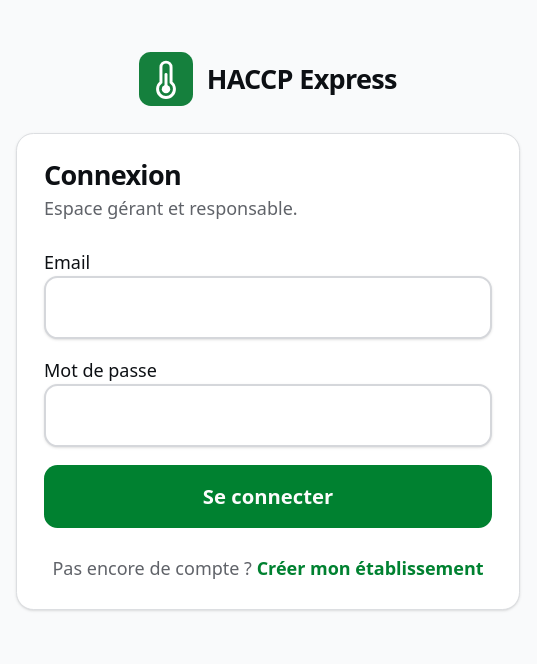
Scenario: LoginPage › affiche une erreur lisible quand les identifiants sont faux
The width and height of the screenshot is (537, 664).
Type "chef@brasserie.fr" into the field labelled "Email" at (268, 307), box x1=44 y1=276 x2=492 y2=339
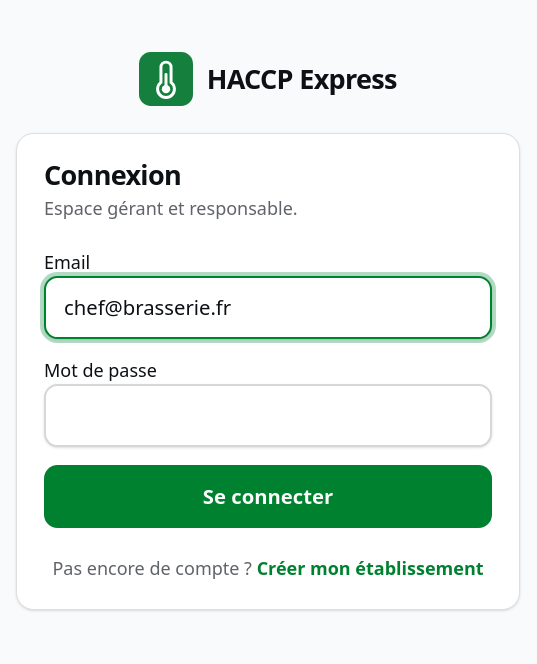
Type "mauvais" into the password field labelled "Mot de passe" at (268, 415), box x1=44 y1=384 x2=492 y2=447
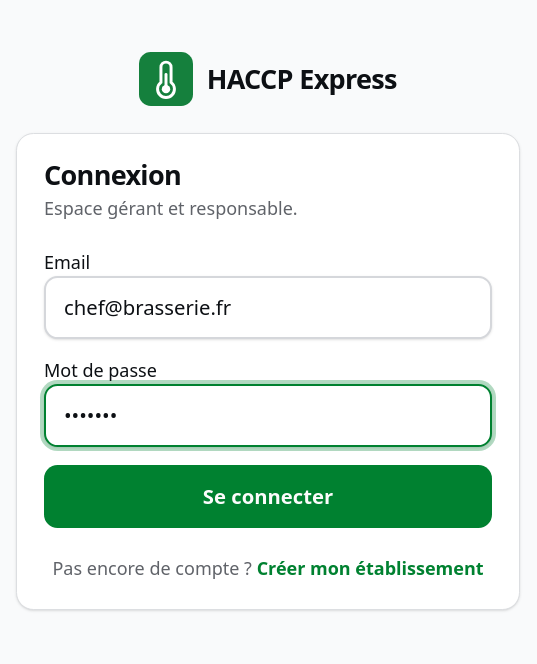
Click the button "Se connecter" at (268, 496), box x1=44 y1=465 x2=492 y2=528
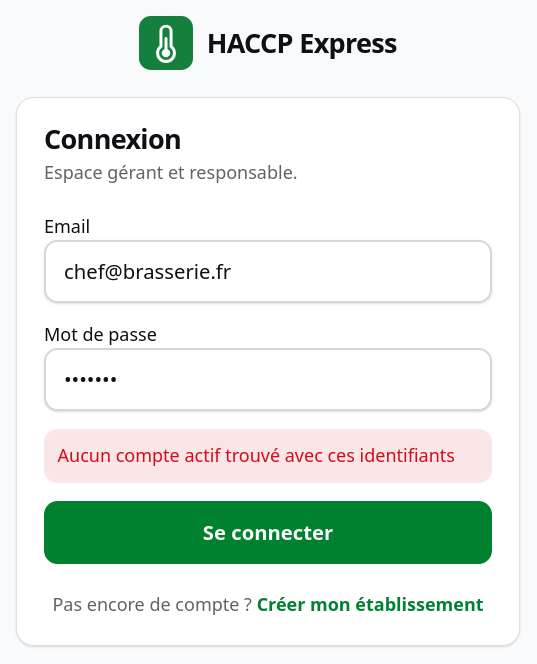
expect the message shows "Aucun compte actif": met, box x1=58 y1=443 x2=455 y2=467
